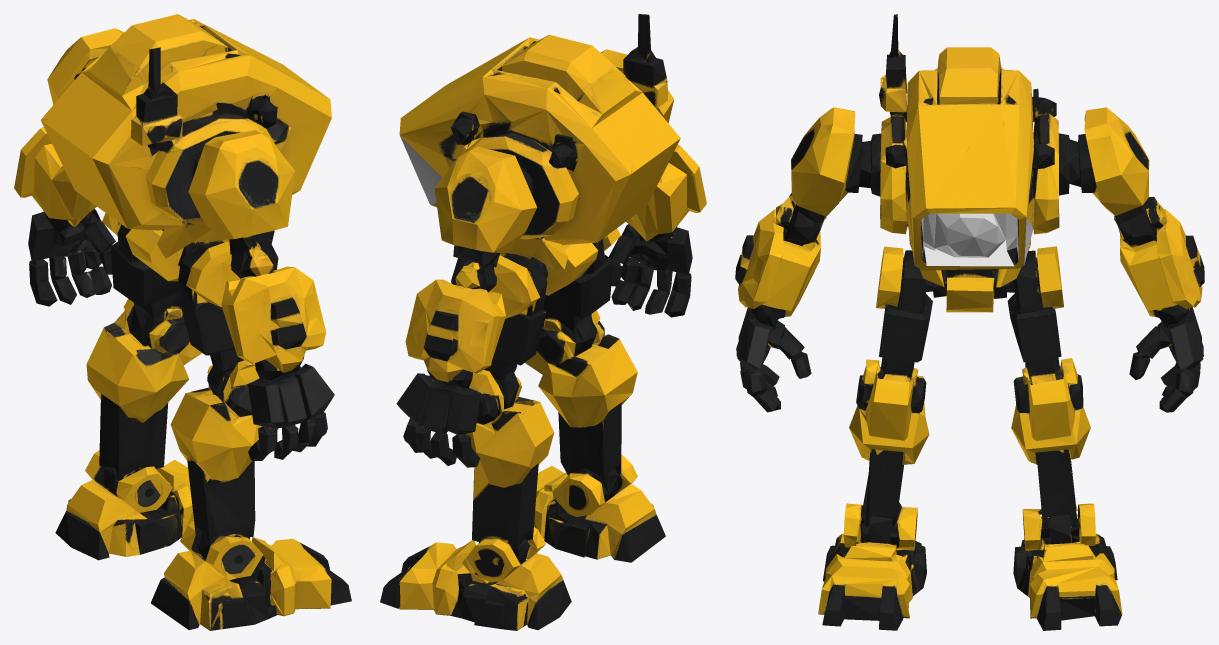
Rendered from chaser_v2_meshy_game.fbx.
3 renders of one model, left to right at view 1: azimuth 30°, elevation 25°; view 2: azimuth 150°, elevation 25°; view 3: azimuth 270°, elevation 25°, orthographic. The views are drawn at different scales.
Parts seen in each view (by area): view 1: SM_ChaserV2_Meshy; view 2: SM_ChaserV2_Meshy; view 3: SM_ChaserV2_Meshy.
Boxes of the visible parts, x1,y1,x2,y2 form: SM_ChaserV2_Meshy: (14,14,351,630); SM_ChaserV2_Meshy: (380,14,706,630); SM_ChaserV2_Meshy: (735,14,1204,630).
Size of the model in its own units: 55.16 by 123 by 97.71.
2 materials, 1 textured.
